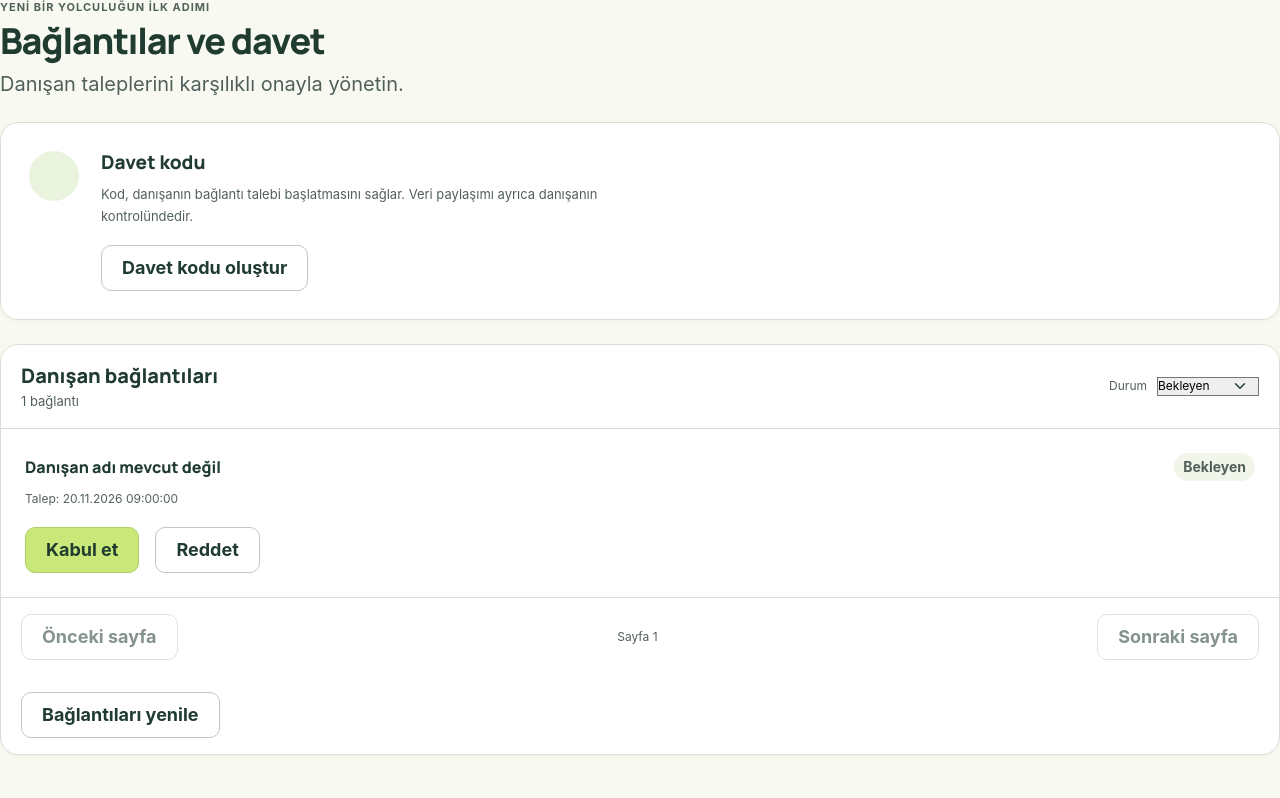
connection identity and invitation clipboard › provides accessible feedback when clipboard is denied
This screenshot has width=1280, height=798.
Click the button "Davet kodu oluştur": (205, 268) 101,245 -> 308,291
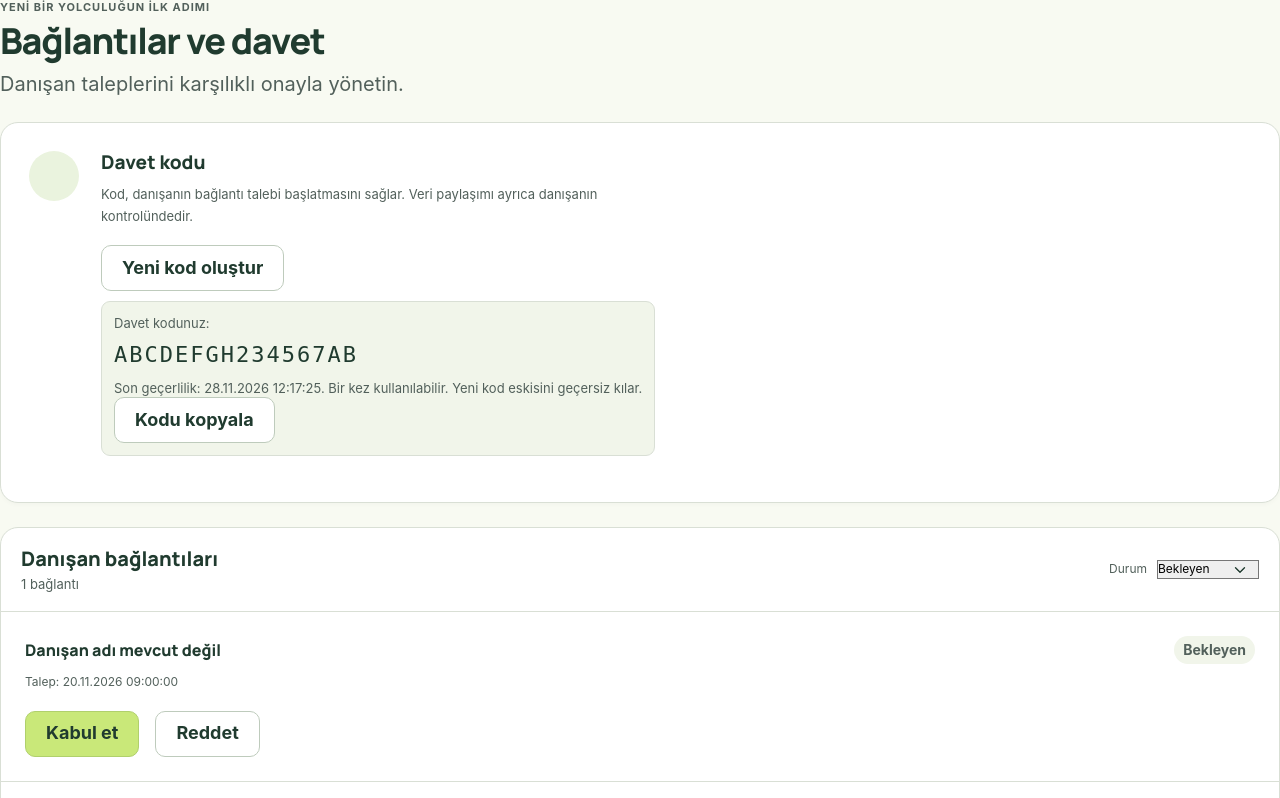
Check: the button "Kodu kopyala" is enabled
Click the button "Kodu kopyala": (194, 420) 114,397 -> 275,443
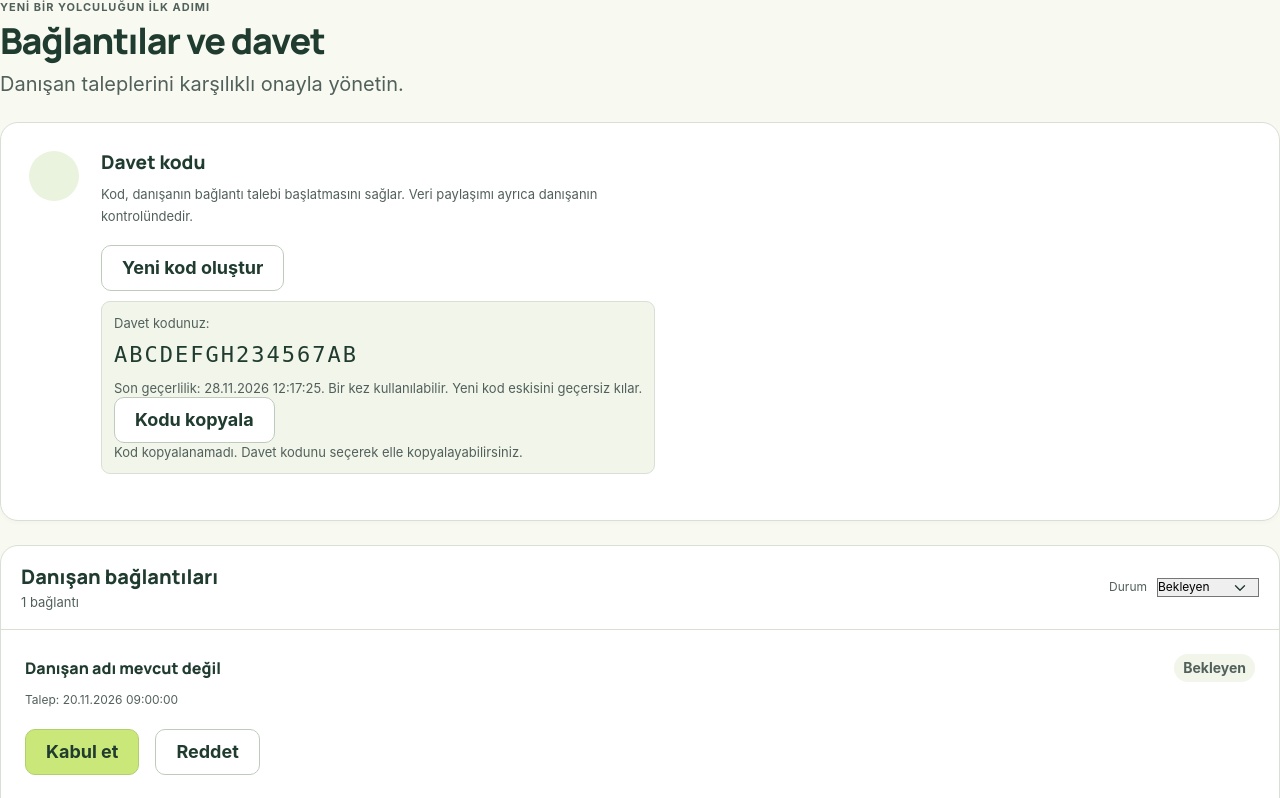
Check: the message shows "Kod kopyalanamadı", box 114,444 -> 523,460
